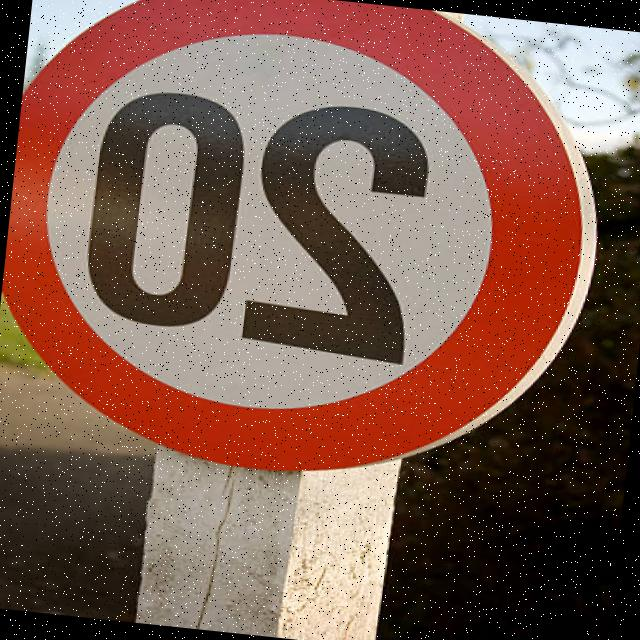speed_limit_20: (0, 0, 638, 508)
